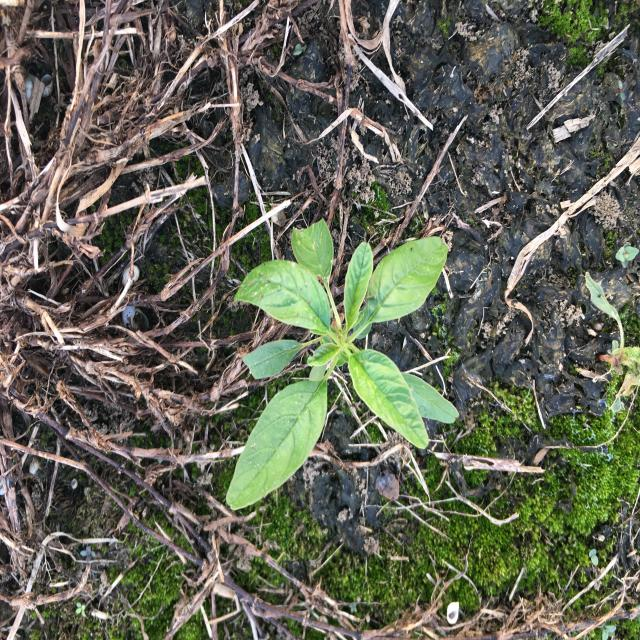Waterhemp: (224, 216, 461, 512)
